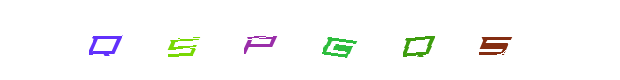5: (454, 0, 534, 80)
G: (269, 0, 349, 80)
P: (226, 0, 306, 80)
Q: (64, 0, 144, 80), (334, 0, 414, 80)
S: (161, 0, 241, 80)
